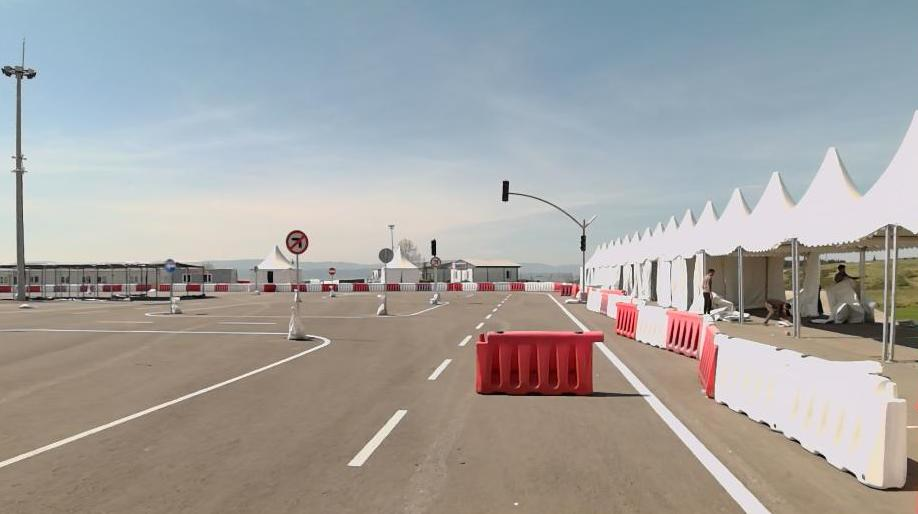sola_donulmez: (285, 229, 310, 256)
